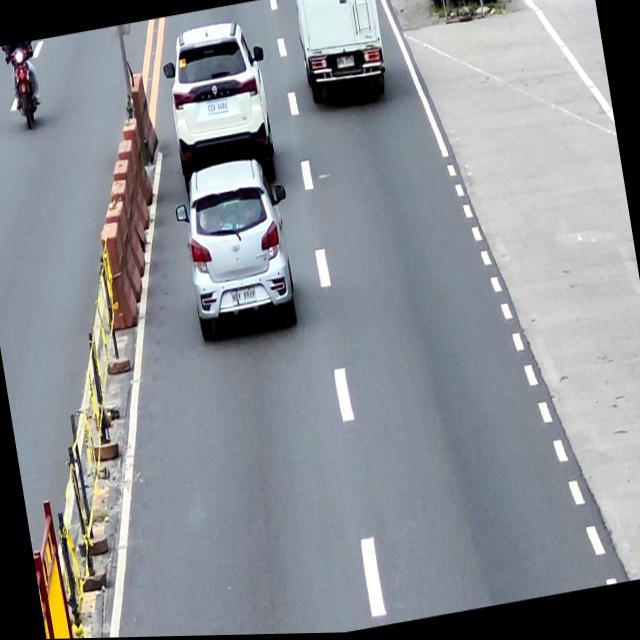Car: (170, 153, 308, 350), (158, 16, 284, 199), (291, 0, 391, 114)
License-Plate: (230, 288, 258, 309), (206, 99, 230, 116), (336, 56, 356, 71)
Motorcycle: (4, 41, 46, 132)
